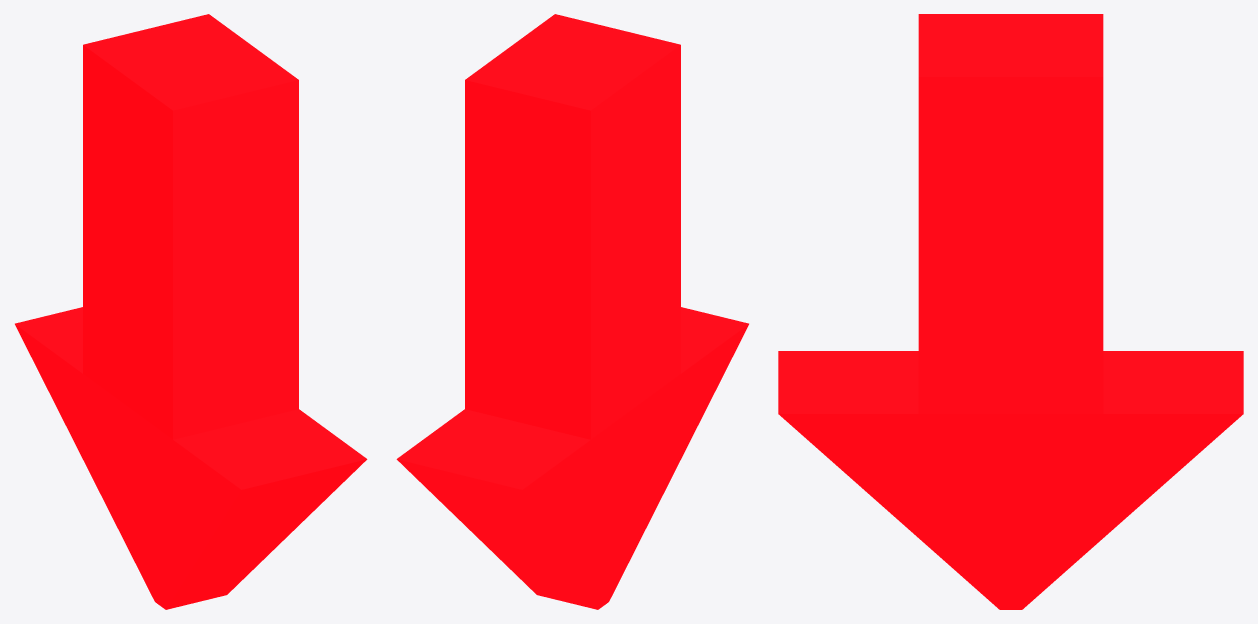
The model's file is arow_red (1).fbx.
3 renders of one model, left to right at view 1: azimuth 30°, elevation 25°; view 2: azimuth 150°, elevation 25°; view 3: azimuth 270°, elevation 25°, orthographic. The views are drawn at different scales.
Parts seen in each view (by area): view 1: Куб; view 2: Куб; view 3: Куб.
Part boxes in pixels (x1,y1,x2,y2): Куб: (15, 14, 367, 609); Куб: (396, 14, 748, 609); Куб: (778, 14, 1243, 609).
Bounding box in the file's own units: 31.84 × 129 × 99.41.
